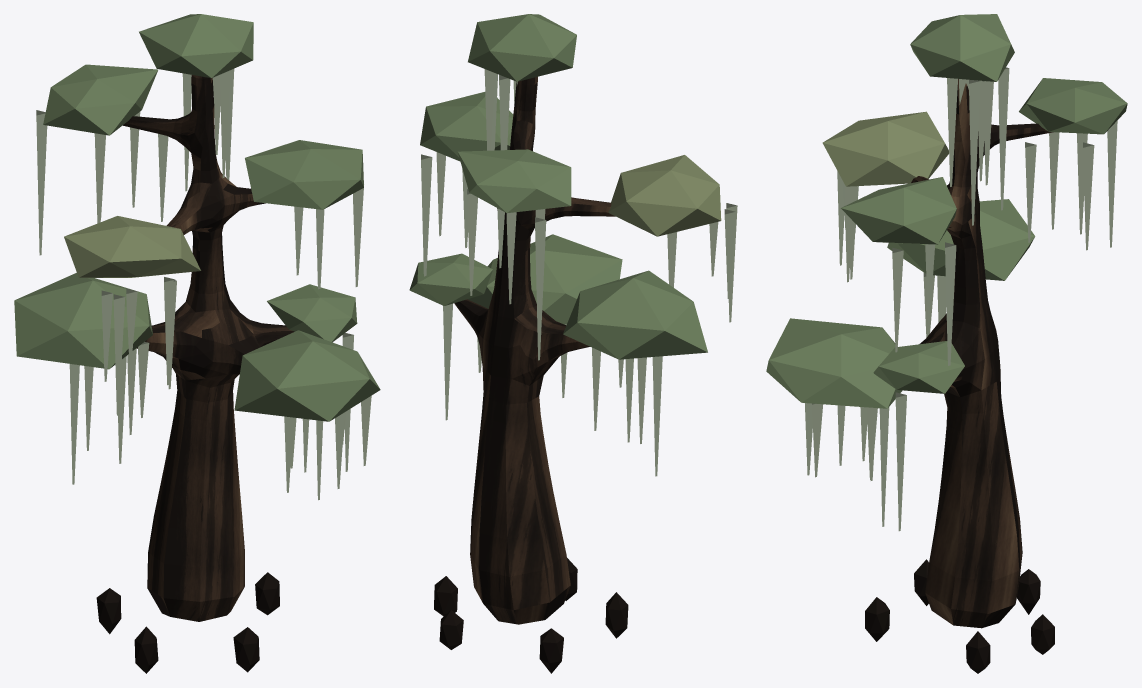
The model's file is swamp_cypress_2.glb.
The picture shows the model from 3 angles, left to right: view 1: azimuth 30°, elevation 25°; view 2: azimuth 150°, elevation 25°; view 3: azimuth 270°, elevation 25°; orthographic projection.
Parts seen in each view (by area): view 1: swamp_cypress_19; view 2: swamp_cypress_19; view 3: swamp_cypress_19.
Boxes of the visible parts, x1,y1,x2,y2 form: swamp_cypress_19: (14,14,380,673); swamp_cypress_19: (409,14,737,673); swamp_cypress_19: (766,14,1127,673).
Size of the model in its own units: 5.7 by 10.86 by 5.66.
Materials: 4 (1 with a texture image).
